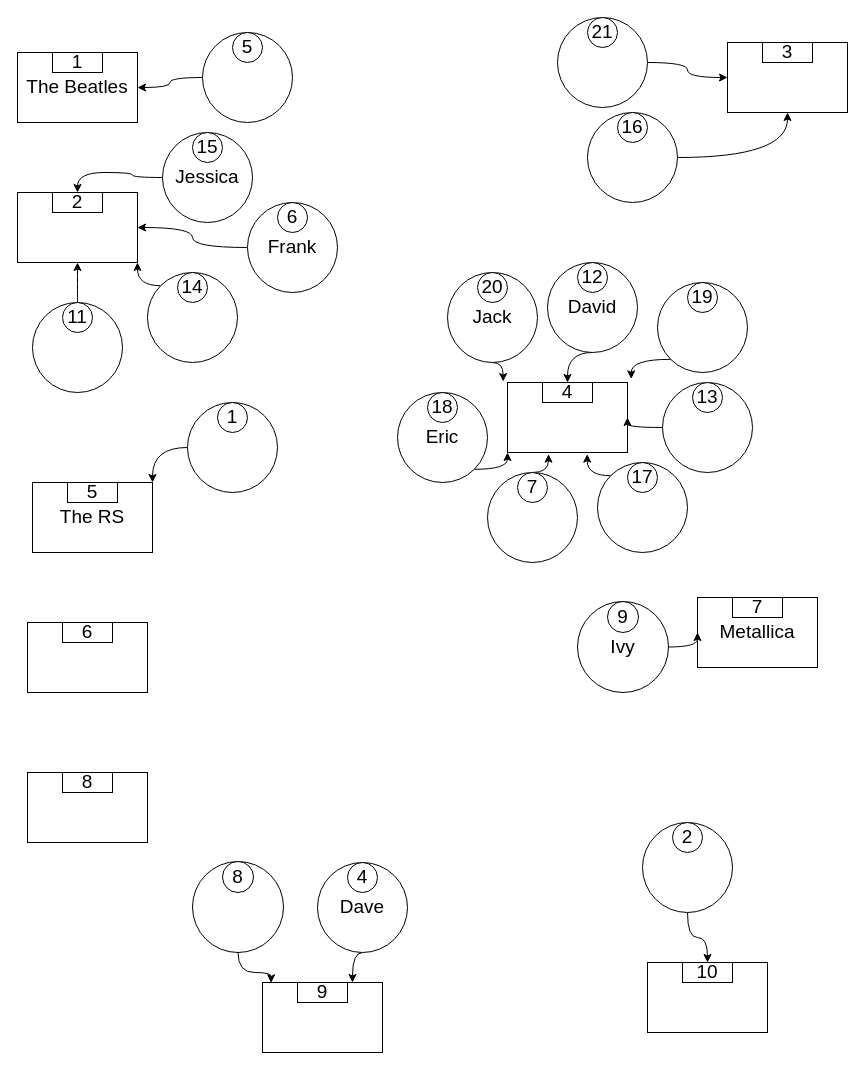
Image size: 865x1070. Some labels were removed from this diagram. The shapes that lost their labels are listed below. From the top down, each one's box as (x1, y1, x2, y2) in pixels, then its label:
(202, 32, 292, 122): Eve
(556, 16, 648, 108): Isabella
(726, 42, 848, 112): Pink Floyd
(586, 112, 678, 202): Alex
(16, 192, 138, 262): Led Zeppelin
(146, 272, 238, 362): Mike
(656, 282, 748, 372): Olivia
(32, 302, 122, 392): Jane
(506, 382, 628, 452): Queen
(662, 382, 752, 472): Emily
(186, 402, 278, 492): Alice
(486, 472, 578, 562): Grace
(596, 462, 688, 552): Megan
(26, 622, 148, 692): AC/DC
(26, 772, 148, 842): Nirvana
(642, 822, 732, 912): Bob
(192, 860, 284, 952): Hank
(262, 982, 382, 1052): Radiohead
(646, 962, 768, 1032): The Who
